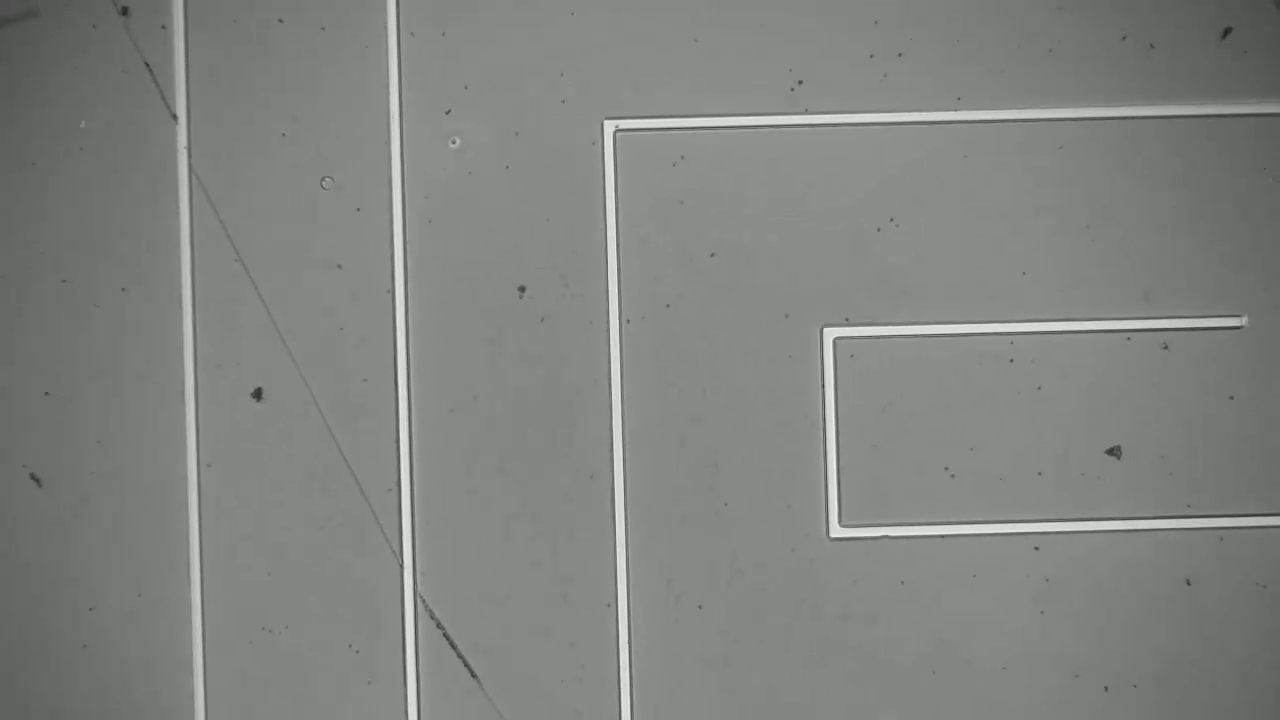scratch: (114, 2, 512, 720)
